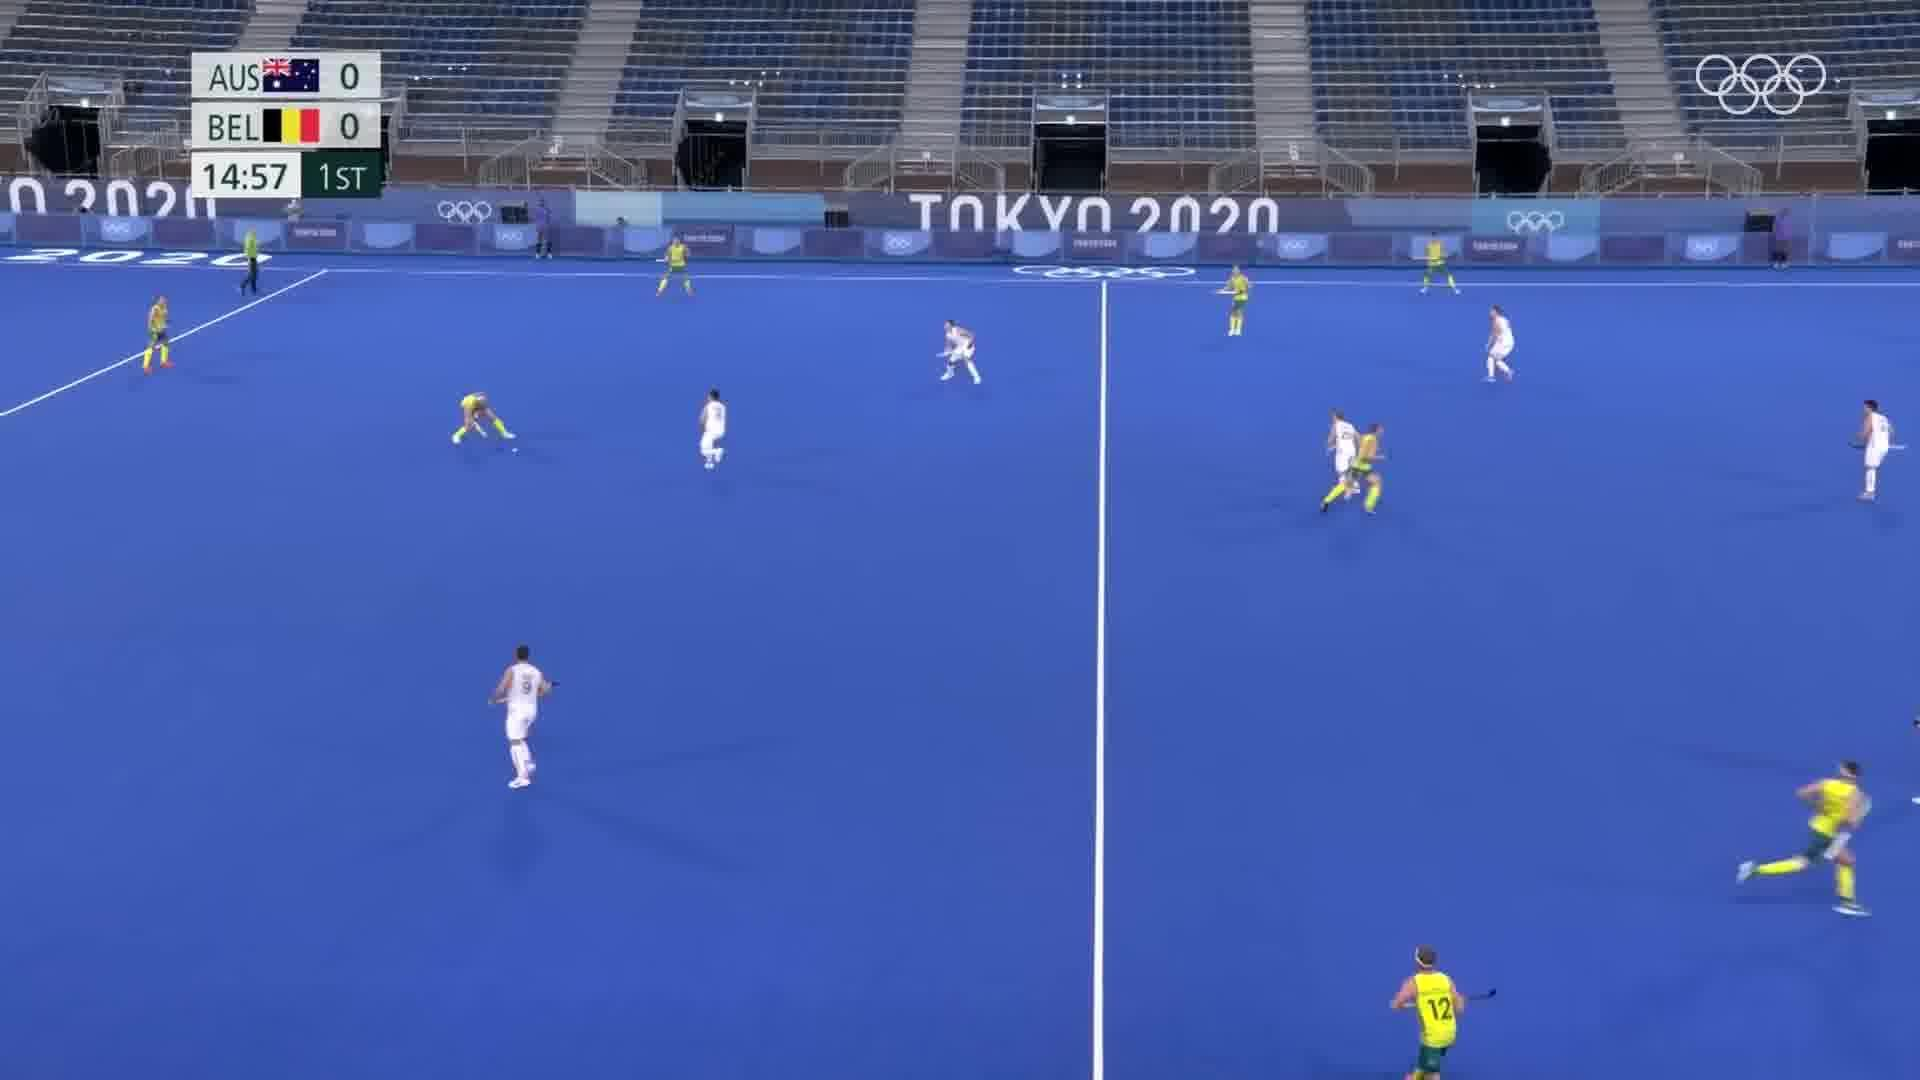ball: (495, 440, 527, 459)
